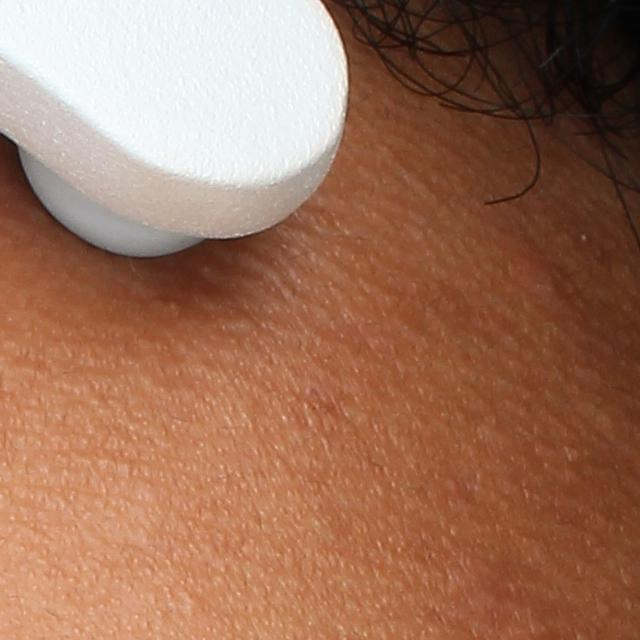comedo: (183, 591, 202, 612)
papule: (521, 250, 567, 303)
